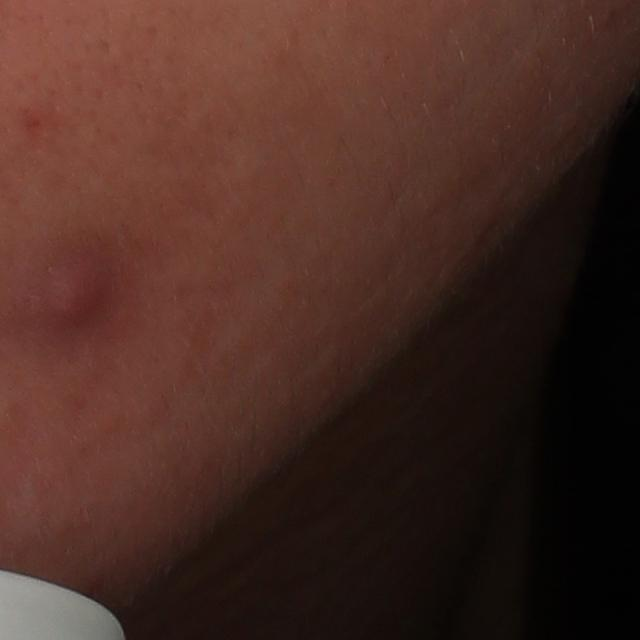papule: (38, 264, 103, 321)
